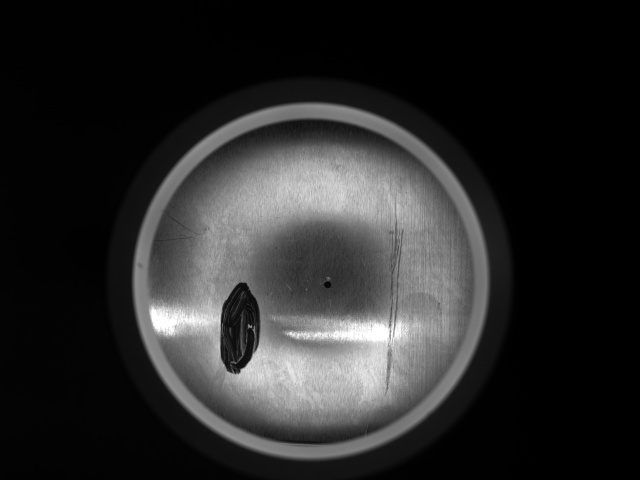ca_shang: (378, 190, 409, 396)
zang_wu: (217, 280, 262, 376)
zhen_kong: (320, 278, 335, 293)
